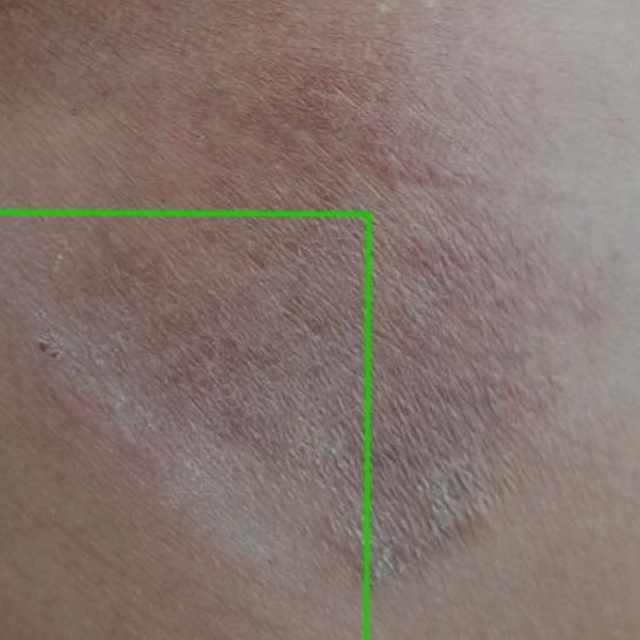Contact Dermatitis: (0, 212, 368, 639)
